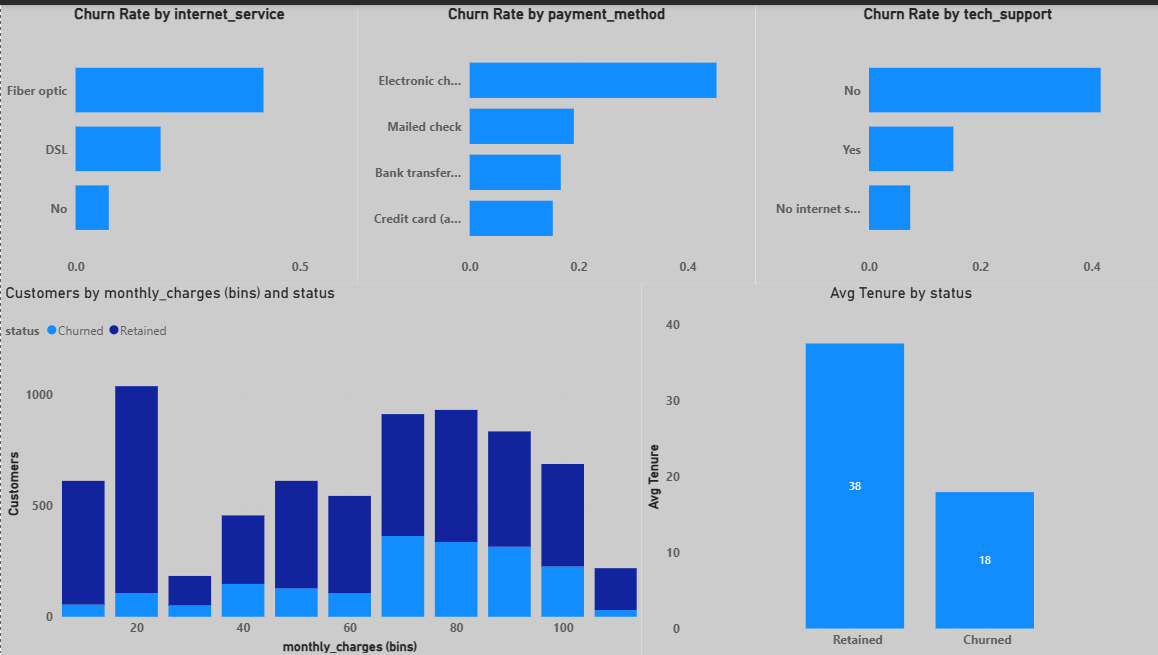

What the dashboard file says about the page in this screenshot:
{"tool":"powerbi","page":{"name":"Profile","canvas":[1280,720],"ordinal":2},"visuals":[{"type":"clusteredBarChart","fields":{"Category":["Customers.internet_service"],"Y":["Customers.Churn Rate"]},"box":[0,0,394.2,308.1],"z":0},{"type":"clusteredBarChart","fields":{"Category":["Customers.payment_method"],"Y":["Customers.Churn Rate"]},"box":[394.2,0,439,308.1],"z":1},{"type":"clusteredBarChart","fields":{"Category":["Customers.tech_support"],"Y":["Customers.Churn Rate"]},"box":[833.2,0,447.2,308.1],"z":2},{"type":"columnChart","fields":{"Category":["Customers.monthly_charges (bins)"],"Series":["Customers.status"],"Y":["Customers.Customers"]},"box":[0,308.1,707.3,412.5],"z":3},{"type":"clusteredColumnChart","fields":{"Category":["Customers.status"],"Y":["Customers.Avg Tenure"]},"box":[707.3,308.1,573.1,412.5],"z":4}]}

Visuals, with their boxes in screenshot pixels (x1, y1, x2, y2), scaled from the page's 1280x720 canvas onto the 1158x655 screenshot:
clusteredBarChart - Customers.internet_service x Customers.Churn Rate: left=0, top=0, right=357, bottom=280
clusteredBarChart - Customers.payment_method x Customers.Churn Rate: left=357, top=0, right=754, bottom=280
clusteredBarChart - Customers.tech_support x Customers.Churn Rate: left=754, top=0, right=1157, bottom=280
columnChart - Customers.monthly_charges (bins) x Customers.status: left=0, top=280, right=640, bottom=654
clusteredColumnChart - Customers.status x Customers.Avg Tenure: left=640, top=280, right=1157, bottom=654
